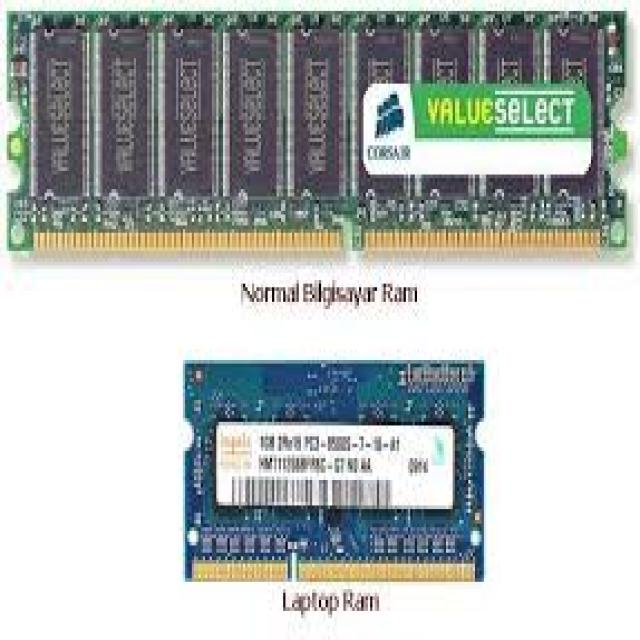Ram: (9, 22, 542, 593)
